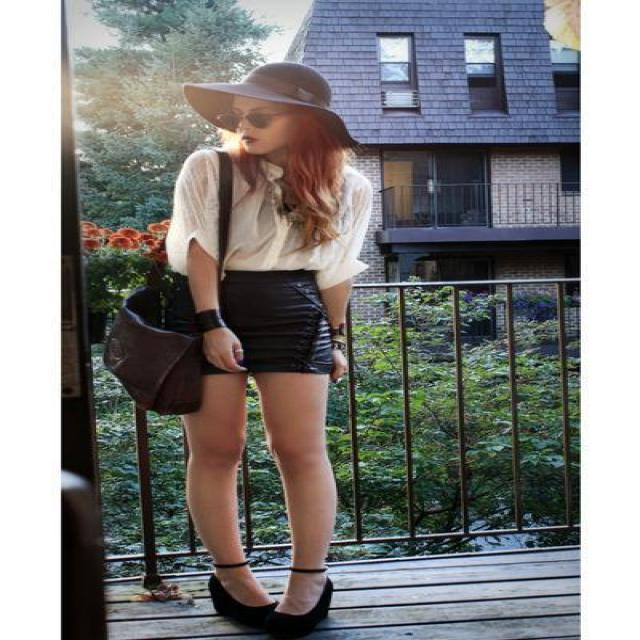bag: (101, 218, 235, 415)
hat: (184, 64, 330, 137)
shirt: (162, 150, 368, 287)
shoe: (190, 564, 364, 639)
skirt: (218, 269, 330, 372)
